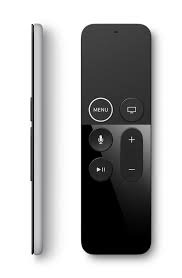remote control: (78, 24, 156, 255)
